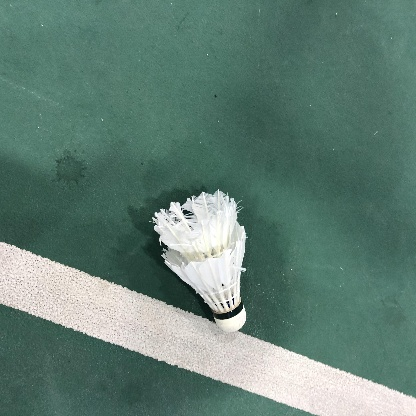ball_single: (152, 190, 246, 332)
